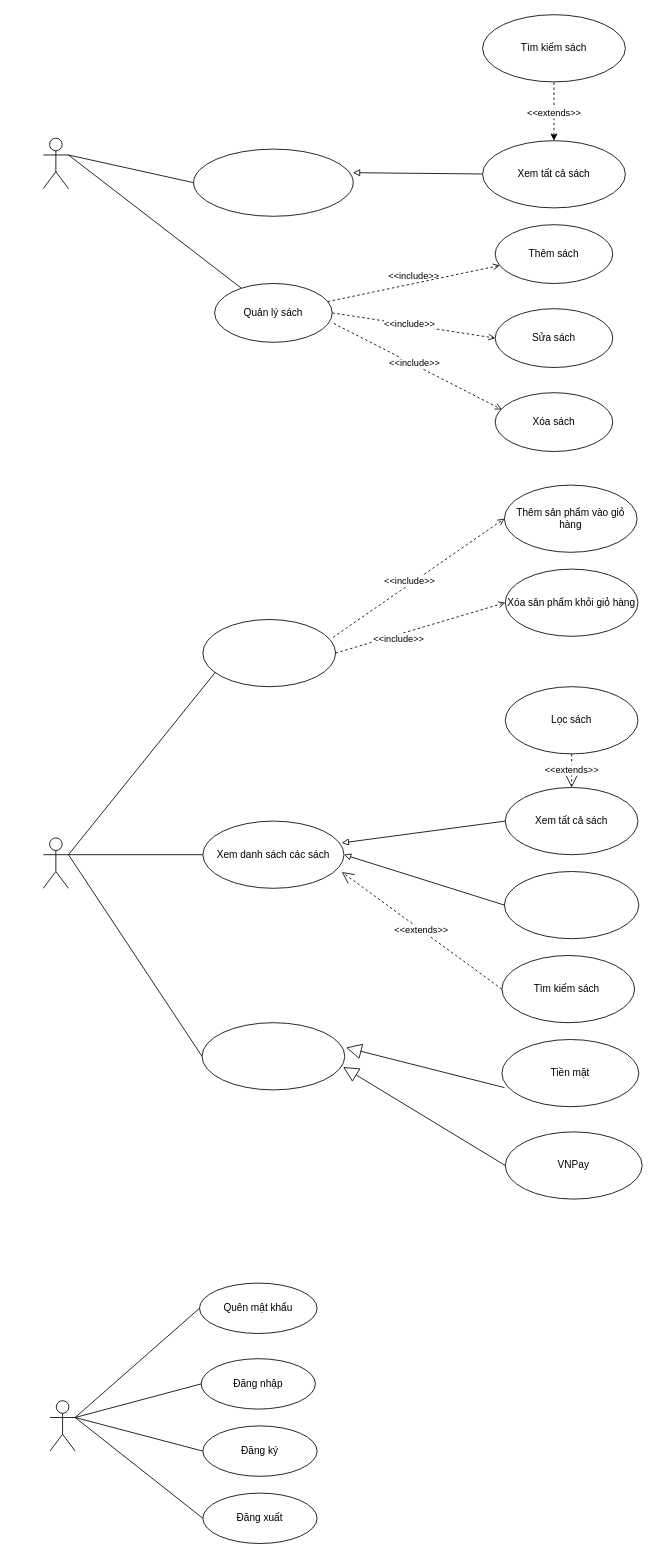
Image size: 657x1558. Some labels were removed from this diagram. The box of each missing label's shape, as (x1, y1, x2, y2) in pixels:
Khách hàng: (42, 837, 68, 888)
Người dùng hệ thống: (49, 1400, 75, 1451)
Nhân viên quản lý: (42, 137, 68, 189)
Quản lý giỏ hàng: (202, 619, 336, 687)
Thanh toán: (201, 1022, 345, 1090)
Xem danh sách sản phẩm: (193, 148, 353, 216)
Xem sách theo Category: (504, 871, 639, 939)
